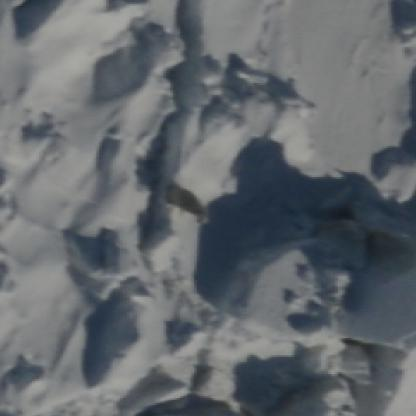polar-bear: (163, 186, 206, 226)
